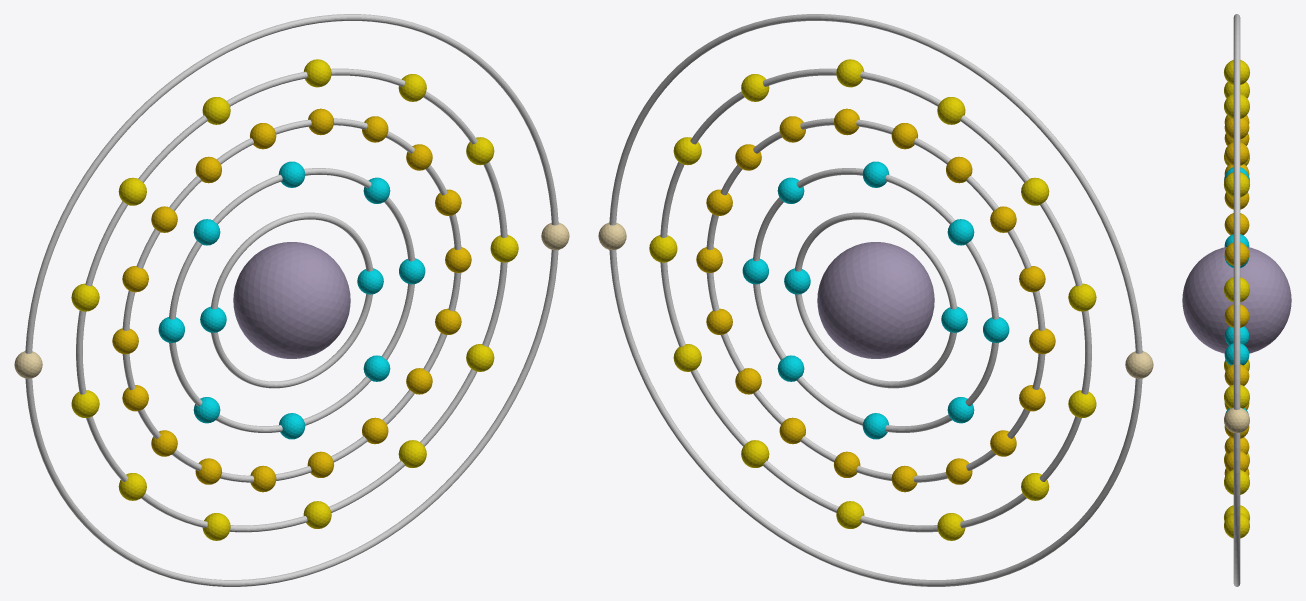
The picture shows the model from 3 angles, left to right: view 1: azimuth 30°, elevation 25°; view 2: azimuth 150°, elevation 25°; view 3: azimuth 270°, elevation 25°; orthographic projection. The views are drawn at different scales.
Parts seen in each view (by area): view 1: Camada_5, Nucleo_Tc, Camada_4, Camada_3, Camada_2, Camada_1; view 2: Camada_5, Nucleo_Tc, Camada_4, Camada_3, Camada_2, Camada_1; view 3: Nucleo_Tc, Camada_5, e5_1, e4_13, e4_2, e4_4, e4_12, e4_3, e4_5, e4_1, e3_2, e3_3 (+11 smaller).
Boxes of the visible parts, x1,y1,x2,y2 form: Camada_5: (25, 14, 558, 586); Nucleo_Tc: (233, 242, 350, 358); Camada_4: (76, 68, 507, 532); Camada_3: (122, 118, 461, 482); Camada_2: (169, 168, 414, 432); Camada_1: (211, 212, 373, 388); Camada_5: (609, 14, 1142, 586); Nucleo_Tc: (817, 242, 934, 358); Camada_4: (660, 68, 1091, 532); Camada_3: (706, 118, 1045, 482); Camada_2: (753, 168, 998, 432); Camada_1: (794, 212, 956, 388); Nucleo_Tc: (1182, 247, 1291, 353); Camada_5: (1233, 14, 1240, 586); e5_1: (1224, 407, 1249, 433); e4_13: (1224, 469, 1249, 494); e4_2: (1224, 277, 1249, 302); e4_4: (1224, 94, 1249, 118); e4_12: (1224, 513, 1249, 538); e4_3: (1224, 172, 1249, 197); e4_5: (1224, 60, 1249, 84); e4_1: (1224, 384, 1249, 408); e3_2: (1224, 304, 1249, 327); e3_3: (1224, 242, 1249, 265).
Bounding box in the file's own units: 2.39 × 2.31 × 0.44.
